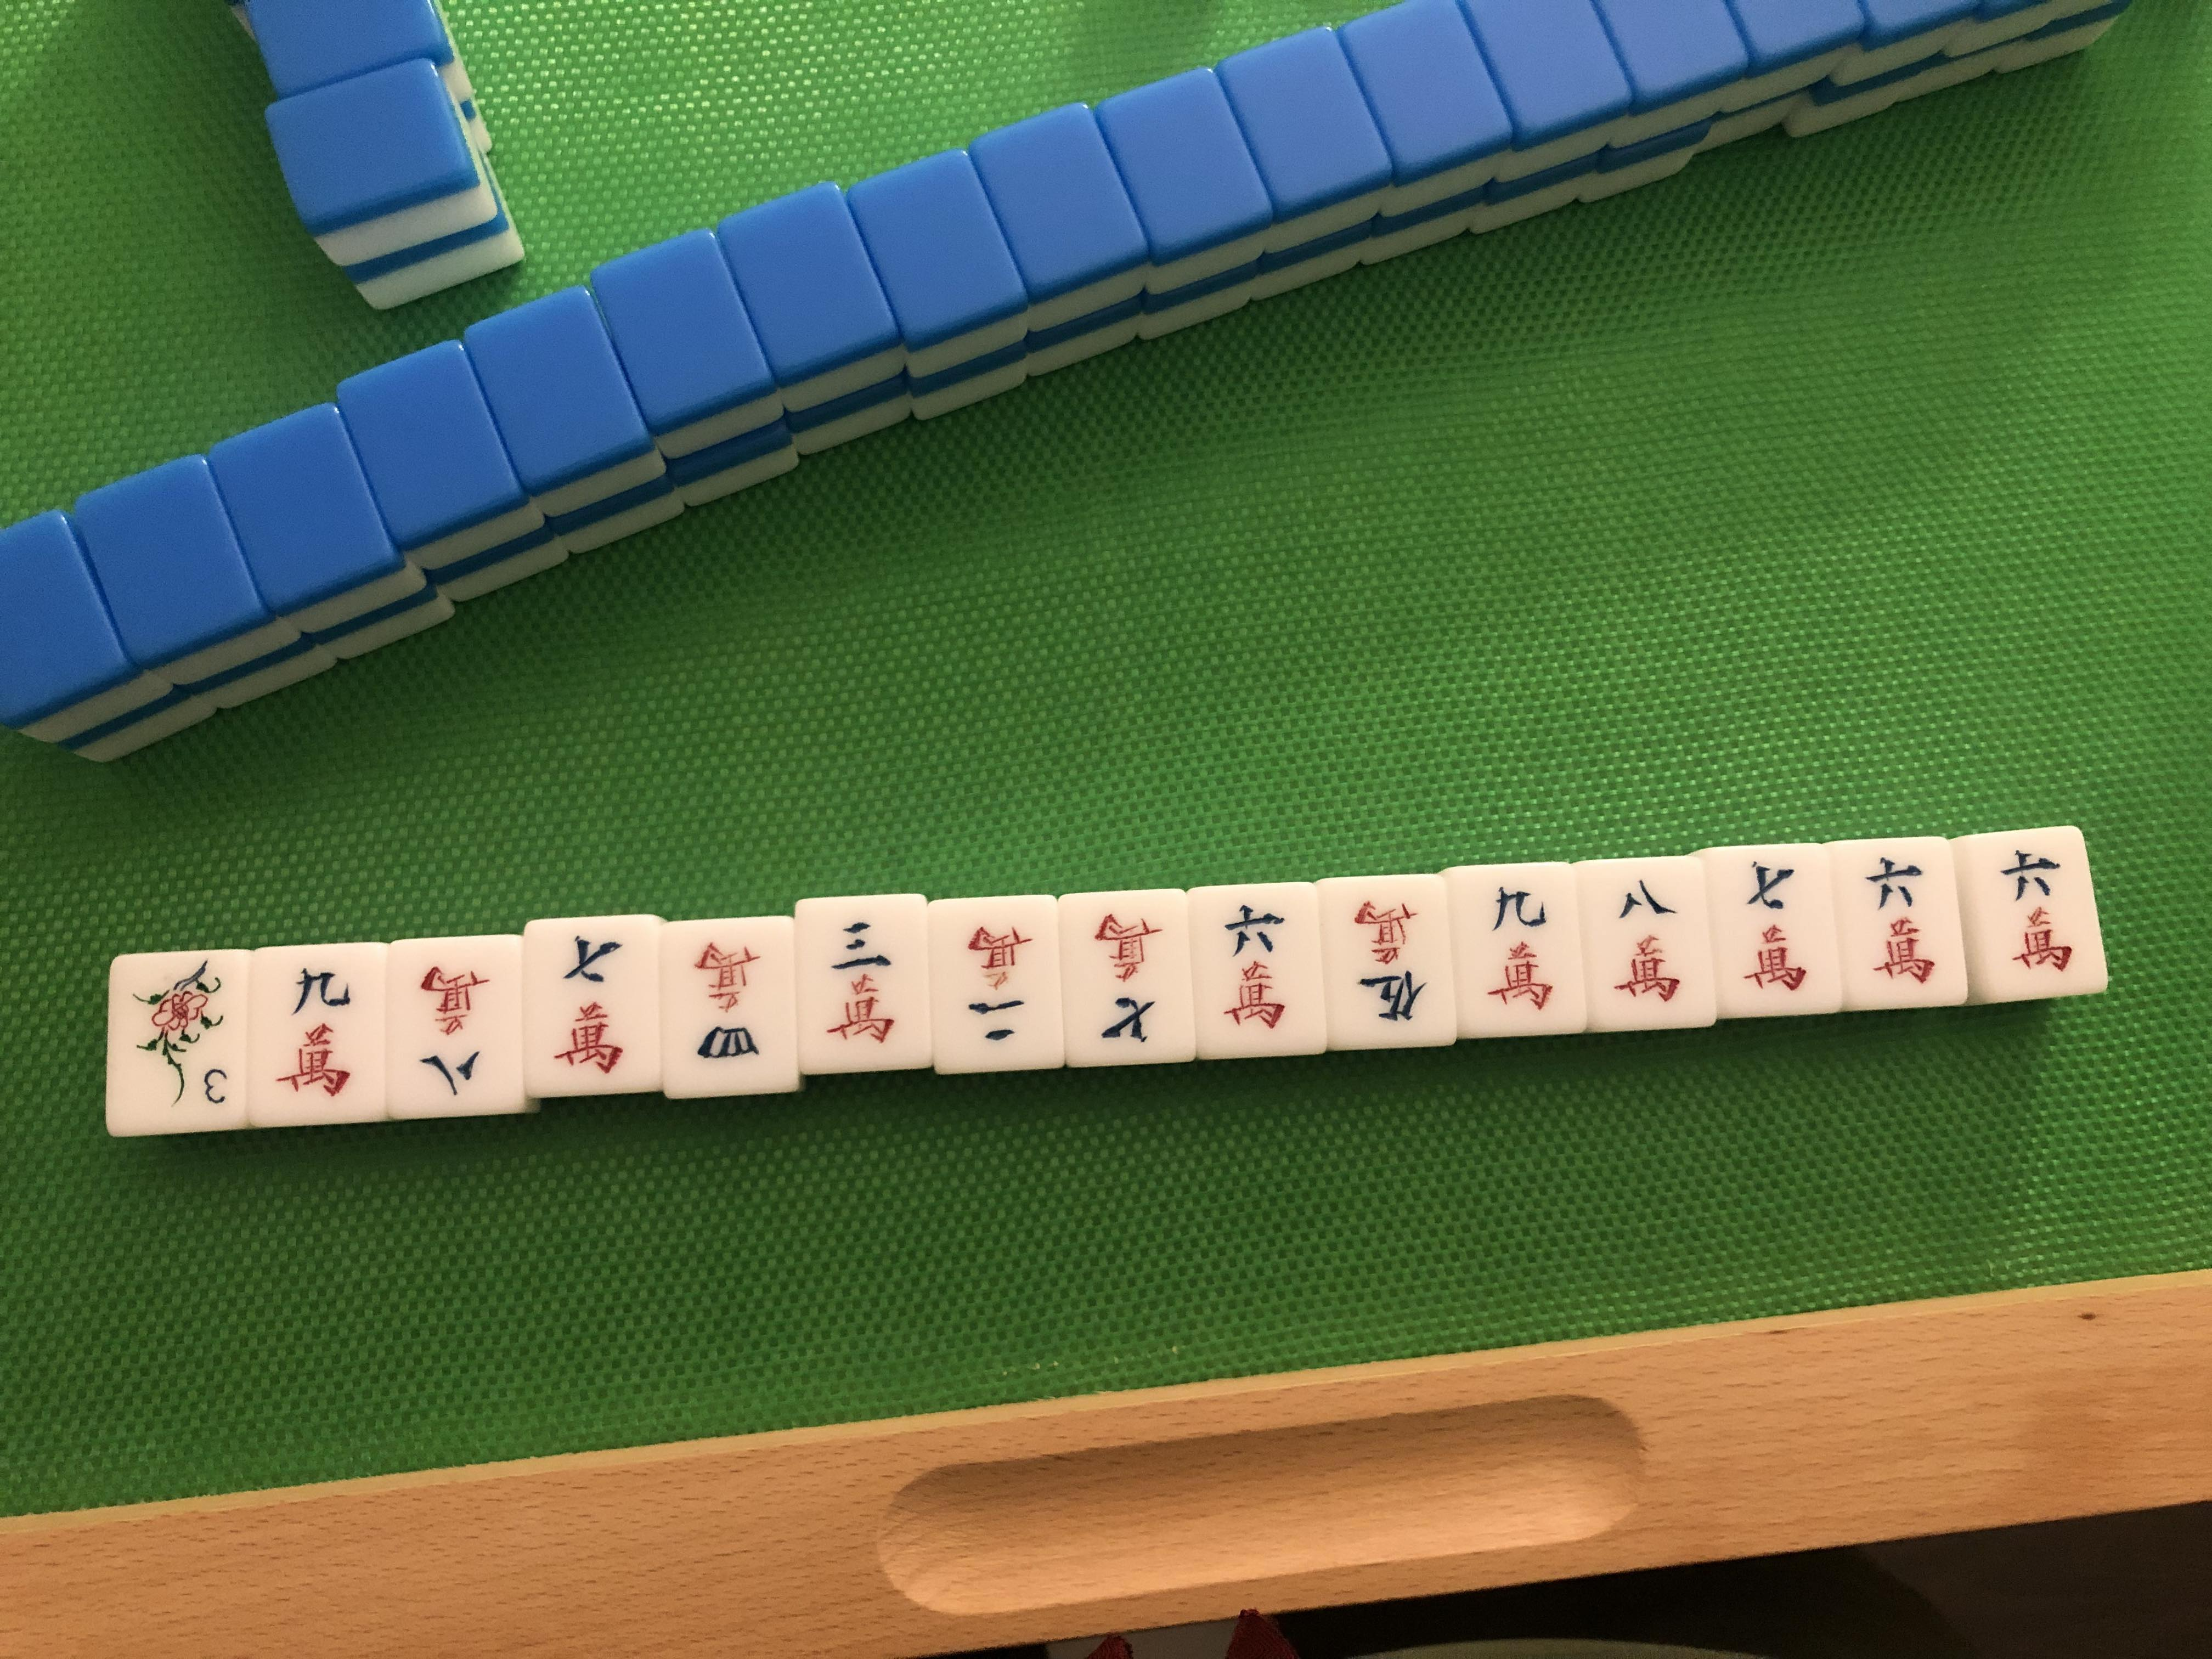character-eight: (390, 939, 521, 1114), (1604, 871, 1696, 1019)
character-five: (1339, 885, 1440, 1037)
character-four: (665, 922, 789, 1096)
character-nine: (251, 946, 380, 1126), (1474, 880, 1568, 1019)
character-seven: (528, 920, 658, 1094), (1073, 896, 1176, 1056), (1728, 854, 1820, 1009)
character-six: (1202, 896, 1308, 1047), (1857, 843, 1947, 1002), (1984, 843, 2076, 981)
character-three: (808, 897, 914, 1070)
character-two: (942, 908, 1045, 1061)
flower-blue_three: (115, 957, 237, 1129)
